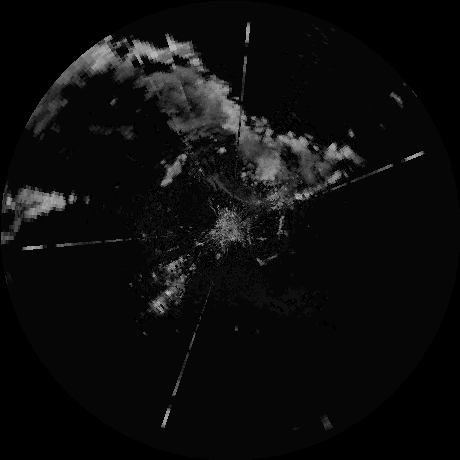frontgust: (212, 175, 262, 206)
